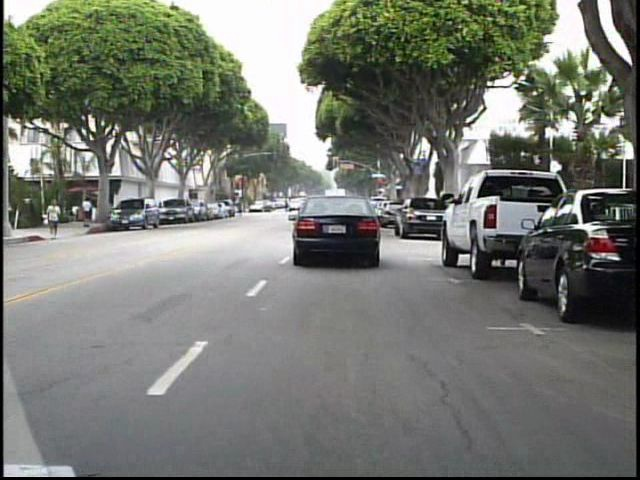person: (46, 194, 68, 241), (83, 194, 99, 229), (283, 192, 293, 216), (238, 197, 248, 219)
